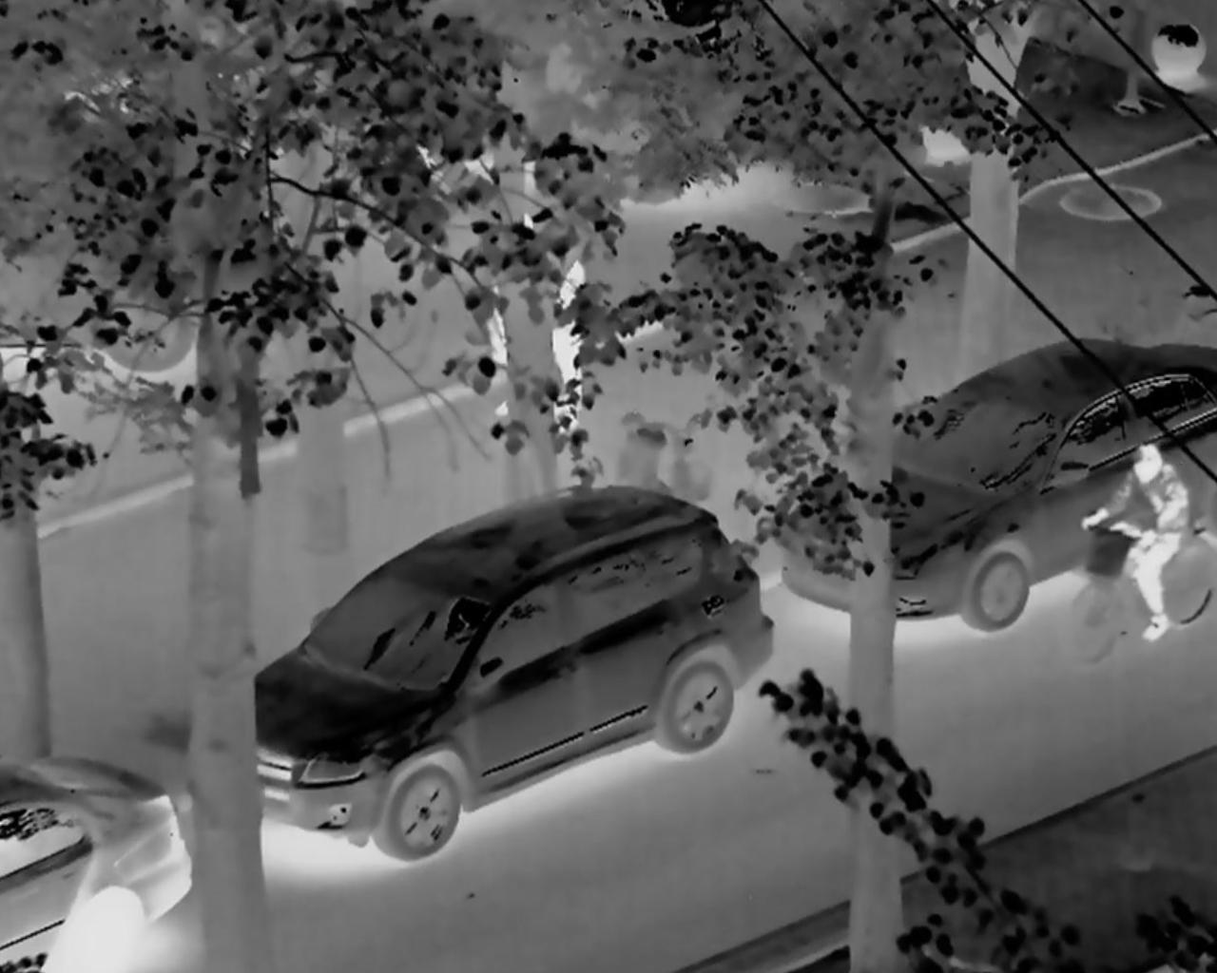person: (1082, 447, 1192, 639), (531, 241, 621, 432)
